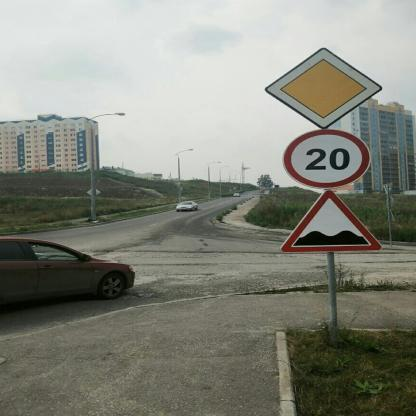road_sign: (267, 48, 381, 128), (281, 191, 381, 252), (283, 129, 370, 190)
